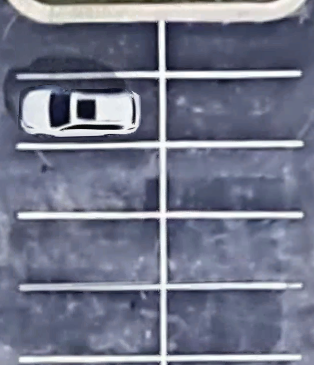Occupied: (16, 76, 163, 145)
Vacant: (18, 287, 164, 360), (17, 145, 163, 217), (18, 217, 164, 287), (164, 216, 304, 287), (163, 287, 303, 358), (162, 75, 303, 144), (163, 145, 302, 214), (16, 15, 162, 75), (164, 15, 304, 75)
